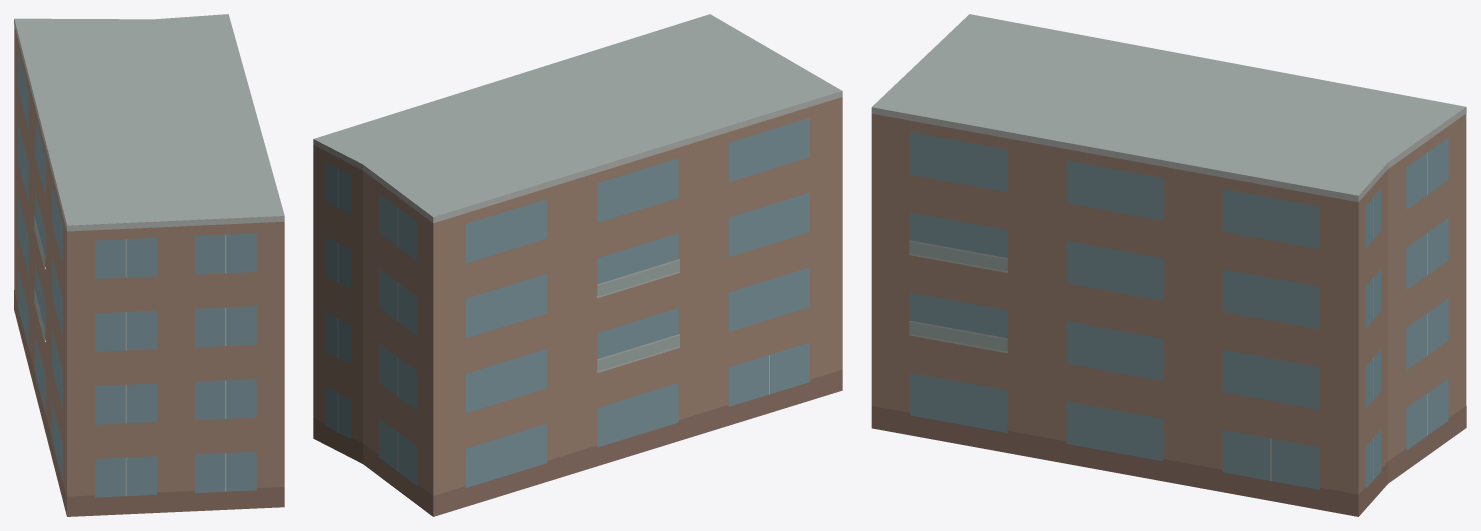
The model's file is survey-upis-32747254.glb.
3 views of the same model, side by side, from view 1: azimuth 30°, elevation 25°; view 2: azimuth 150°, elevation 25°; view 3: azimuth 270°, elevation 25° (orthographic). The views are drawn at different scales.
Parts seen in each view (by area): view 1: survey-upis-32747254.tmp; view 2: survey-upis-32747254.tmp; view 3: survey-upis-32747254.tmp.
Part boxes in pixels (left/top/right/bottom): survey-upis-32747254.tmp: left=14, top=14, right=284, bottom=516; survey-upis-32747254.tmp: left=313, top=14, right=842, bottom=516; survey-upis-32747254.tmp: left=871, top=14, right=1466, bottom=516.
Bounding box in the file's own units: 14.83 × 12.2 × 20.5.
